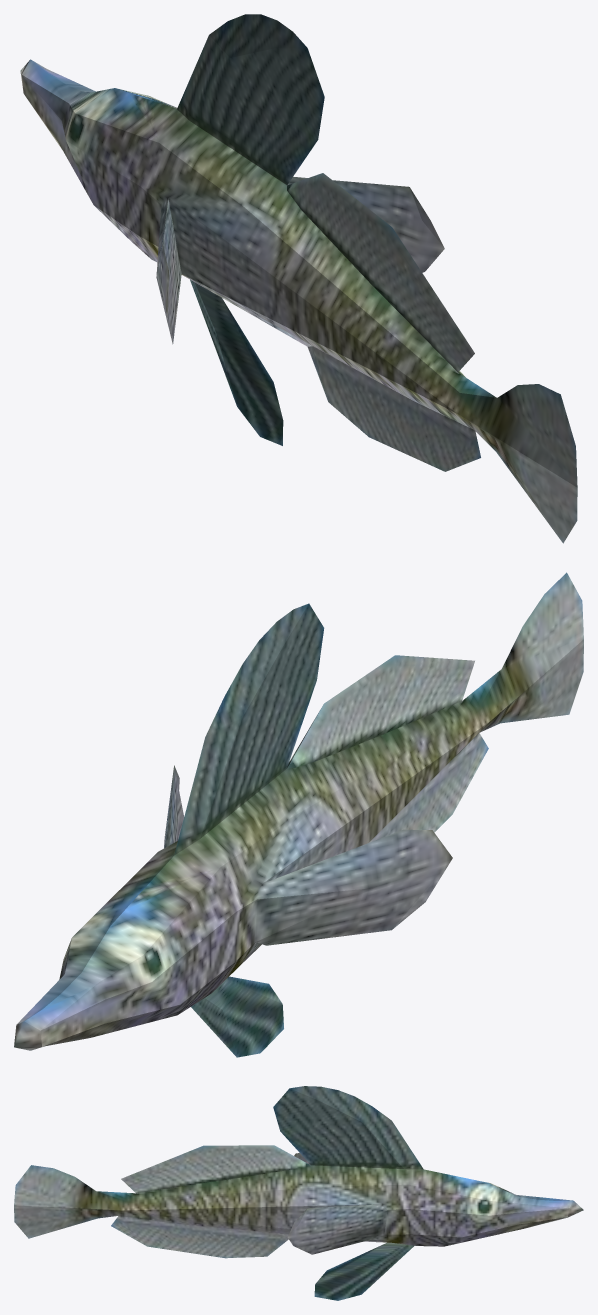
The model's file is Icefish_A.fbx.
3 renders of one model, top to bottom at view 1: azimuth 30°, elevation 25°; view 2: azimuth 150°, elevation 25°; view 3: azimuth 270°, elevation 25°, orthographic. The views are drawn at different scales.
Visible parts, largest first — view 1: pCylinder1; view 2: pCylinder1; view 3: pCylinder1.
Part boxes in pixels (bbox=[...]): pCylinder1: bbox=[20, 14, 577, 543]; pCylinder1: bbox=[14, 572, 583, 1057]; pCylinder1: bbox=[14, 1086, 583, 1300].
Size of the model in its own units: 0.7956 by 1.17 by 2.81.
1 material, 1 textured.
